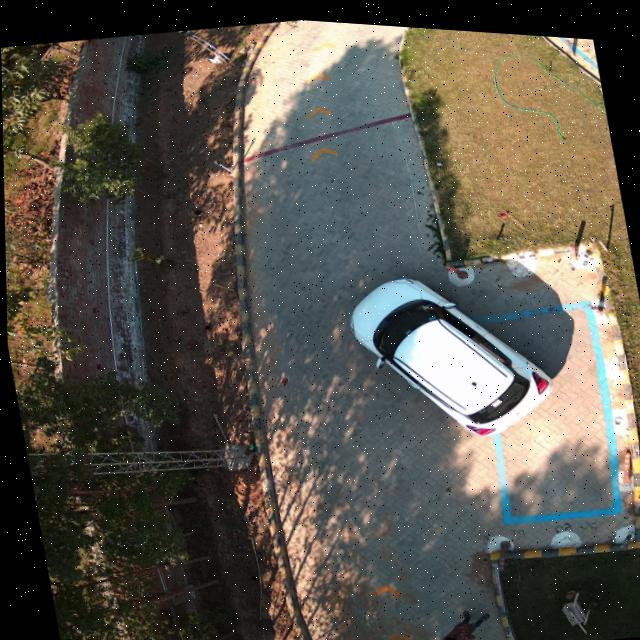car: (352, 272, 552, 428)
